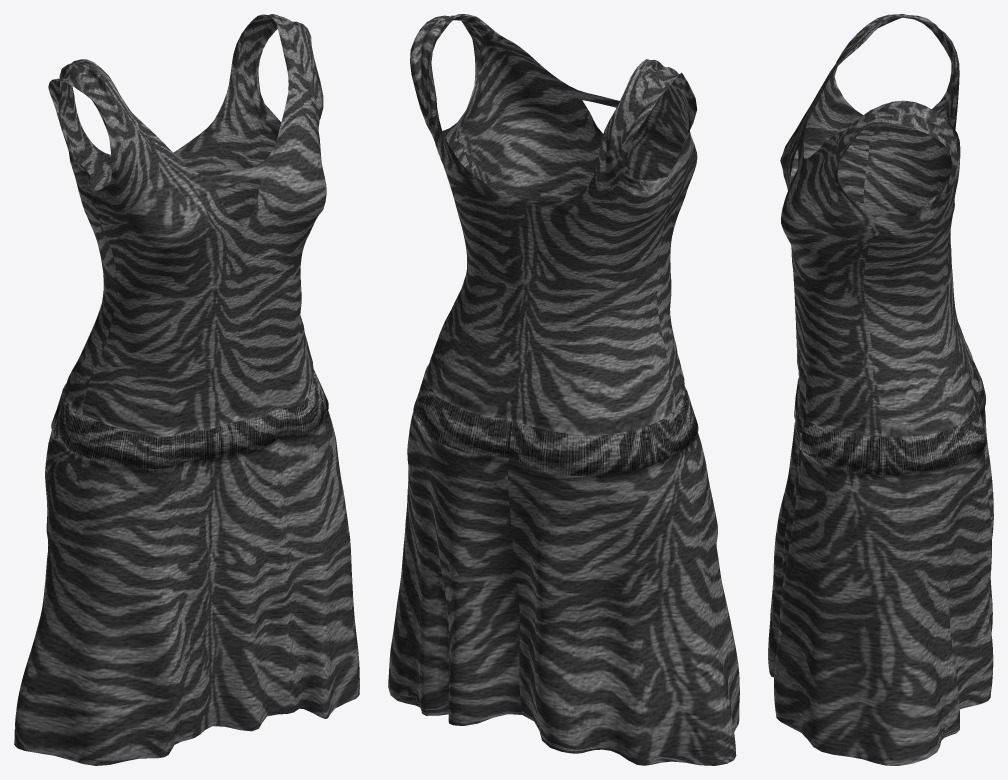
Rendered from toigo-keyhole-neck-dress.glb.
The picture shows the model from 3 angles, left to right: view 1: azimuth 30°, elevation 25°; view 2: azimuth 150°, elevation 25°; view 3: azimuth 270°, elevation 25°; orthographic projection. The views are drawn at different scales.
Visible parts, largest first — view 1: Human.toigo_keyhole_neck_dress; view 2: Human.toigo_keyhole_neck_dress; view 3: Human.toigo_keyhole_neck_dress.
Part boxes in pixels (box(x1,y1,x2,y2)): Human.toigo_keyhole_neck_dress: box(14, 14, 359, 765); Human.toigo_keyhole_neck_dress: box(388, 14, 739, 765); Human.toigo_keyhole_neck_dress: box(768, 14, 993, 765).
Size of the model in its own units: 0.4762 by 0.9154 by 0.295.
Materials: 1 (1 with a texture image).
